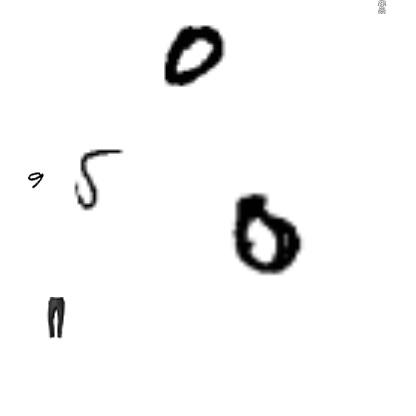0: (208, 178, 320, 290), (150, 11, 234, 95)
5: (48, 132, 132, 216)
9: (25, 167, 47, 189)
Dress: (375, 0, 389, 14)
Trouser: (35, 297, 77, 339)
